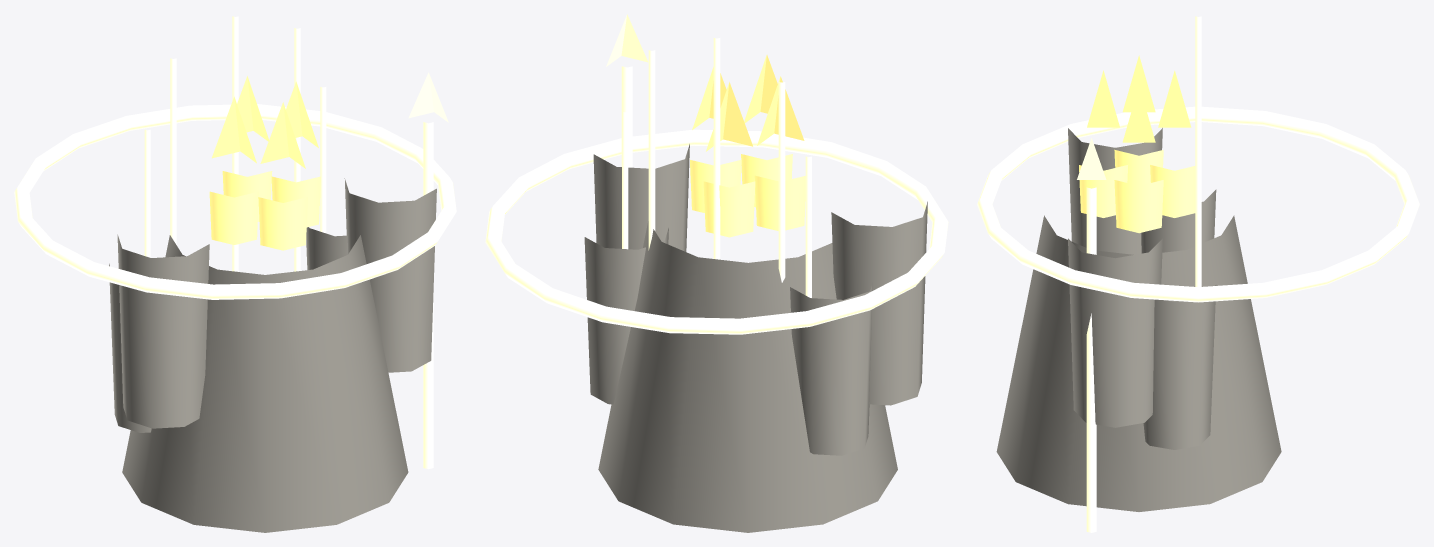
The model's file is boss_brahma_avatara.glb.
The picture shows the model from 3 angles, left to right: view 1: azimuth 30°, elevation 25°; view 2: azimuth 150°, elevation 25°; view 3: azimuth 270°, elevation 25°; orthographic projection. The views are drawn at different scales.
Visible parts, largest first — view 1: RootNode; view 2: RootNode; view 3: RootNode.
Boxes of the visible parts, bbox=[...] form: RootNode: bbox=[14, 16, 456, 532]; RootNode: bbox=[485, 14, 948, 532]; RootNode: bbox=[977, 16, 1419, 532].
Bounding box in the file's own units: 3.73 × 4.13 × 3.73.
